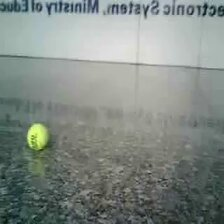tennis: (26, 123, 50, 152)
